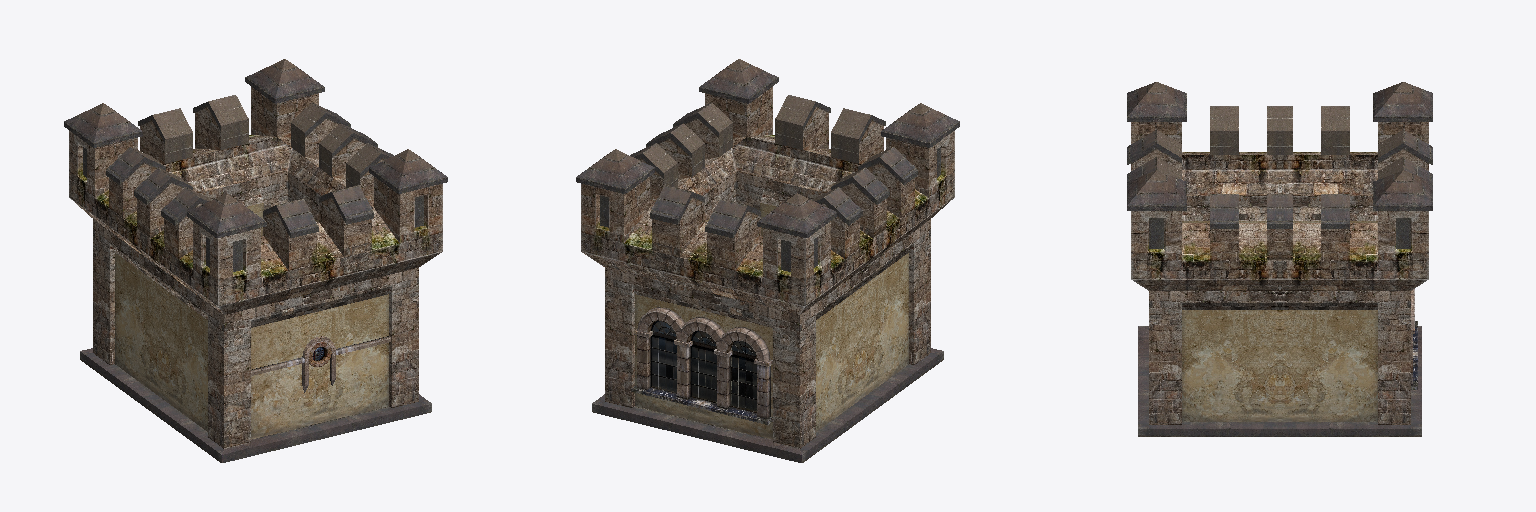
3 views of the same model, side by side, from view 1: azimuth 30°, elevation 25°; view 2: azimuth 150°, elevation 25°; view 3: azimuth 270°, elevation 25° (orthographic).
Visible parts, largest first — view 1: Object_GrdTowD.jpg, Object_GrdTowC.jpg, Object_GrdTowB.jpg; view 2: Object_GrdTowD.jpg, Object_GrdTowC.jpg, Object_GrdTowB.jpg, Object_GrdTowA.jpg; view 3: Object_GrdTowD.jpg, Object_GrdTowC.jpg, Object_GrdTowB.jpg.
Boxes of the visible parts, x1,y1,x2,y2 form: Object_GrdTowD.jpg: [64, 59, 447, 462]; Object_GrdTowC.jpg: [69, 131, 442, 448]; Object_GrdTowB.jpg: [251, 336, 390, 392]; Object_GrdTowD.jpg: [576, 59, 959, 462]; Object_GrdTowC.jpg: [581, 131, 954, 448]; Object_GrdTowB.jpg: [631, 307, 772, 424]; Object_GrdTowA.jpg: [651, 321, 756, 412]; Object_GrdTowD.jpg: [1127, 82, 1432, 436]; Object_GrdTowC.jpg: [1131, 152, 1428, 424]; Object_GrdTowB.jpg: [1411, 289, 1417, 389].
Size of the model in its own units: 1.27 by 1.36 by 1.45.
4 materials, 4 textured.